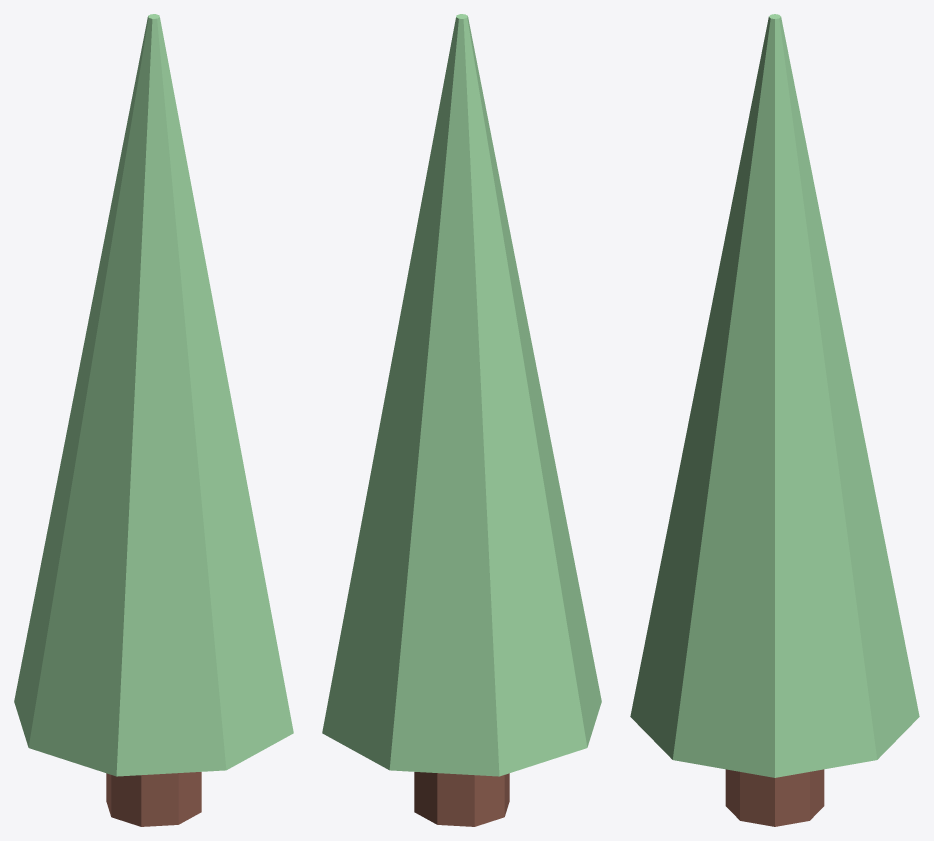
Rendered from arbre2.fbx.
The picture shows the model from 3 angles, left to right: view 1: azimuth 30°, elevation 25°; view 2: azimuth 150°, elevation 25°; view 3: azimuth 270°, elevation 25°; orthographic projection.
Visible parts, largest first — view 1: Cylindre; view 2: Cylindre; view 3: Cylindre.
Boxes of the visible parts, bbox=[...] form: Cylindre: bbox=[14, 14, 293, 826]; Cylindre: bbox=[322, 14, 601, 826]; Cylindre: bbox=[630, 14, 919, 826].
Bounding box in the file's own units: 587 × 1768 × 587.
